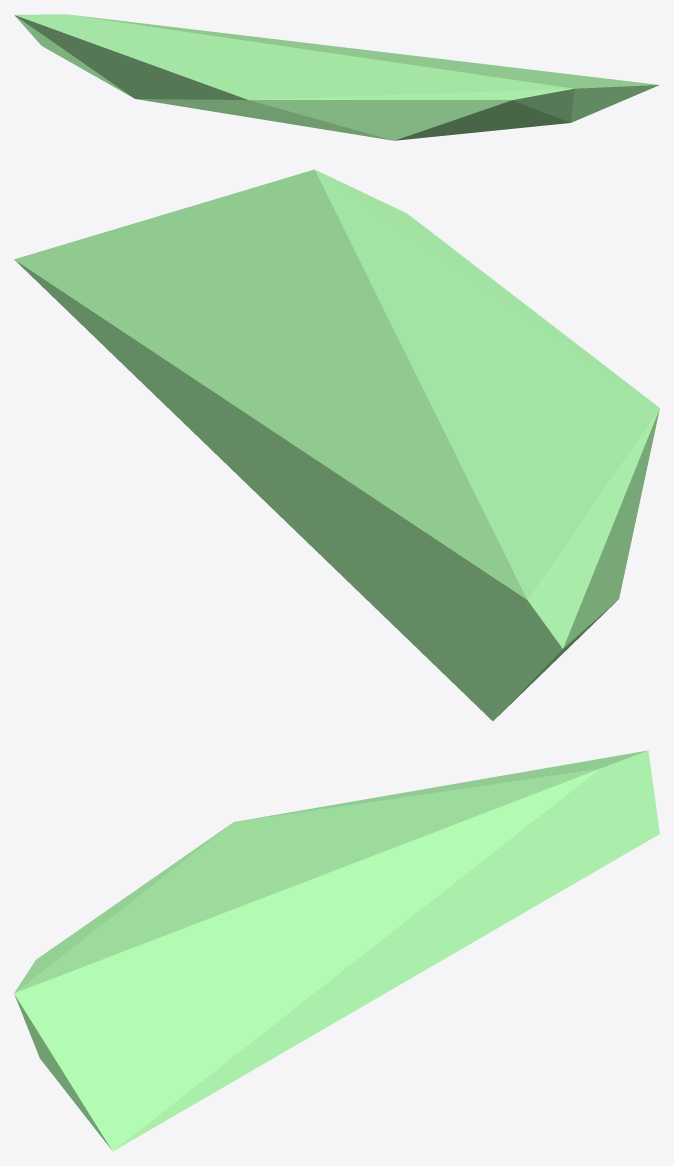
File: exported_panda_link5_resp_coll_5.dae
The picture shows the model from 3 angles, top to bottom: view 1: azimuth 30°, elevation 25°; view 2: azimuth 150°, elevation 25°; view 3: azimuth 270°, elevation 25°; orthographic projection. The views are drawn at different scales.
Visible parts, largest first — view 1: node; view 2: node; view 3: node.
Part boxes in pixels (left/top/right/bottom): node: left=14, top=14, right=659, bottom=140; node: left=14, top=169, right=659, bottom=720; node: left=14, top=750, right=659, bottom=1151.
Bounding box in the file's own units: 0.0595 × 0.0066 × 0.0493.
